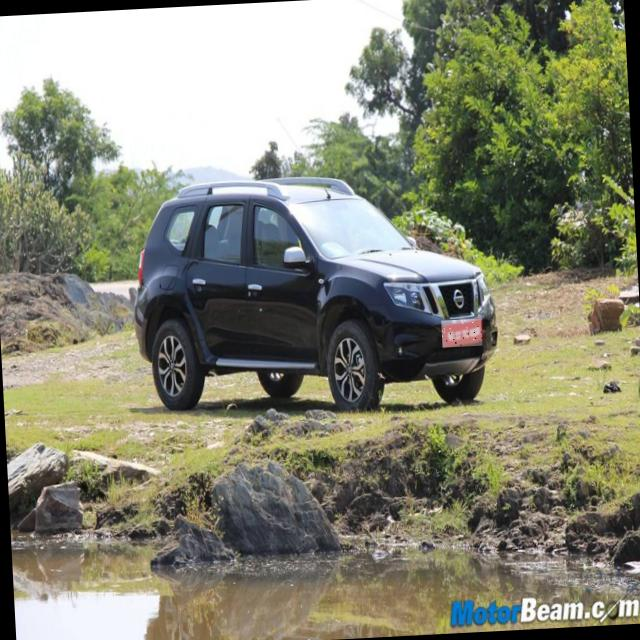Plate: (443, 320, 484, 349)
